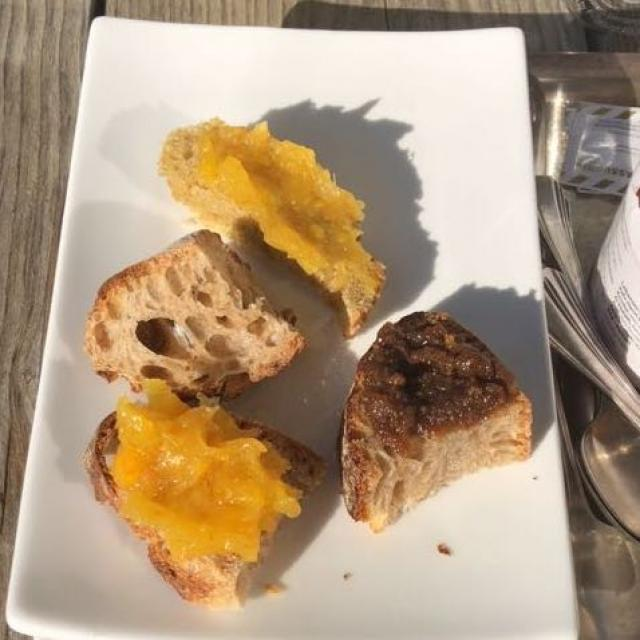bread: (79, 139, 383, 616), (332, 312, 537, 518)
jam: (83, 128, 378, 576)
